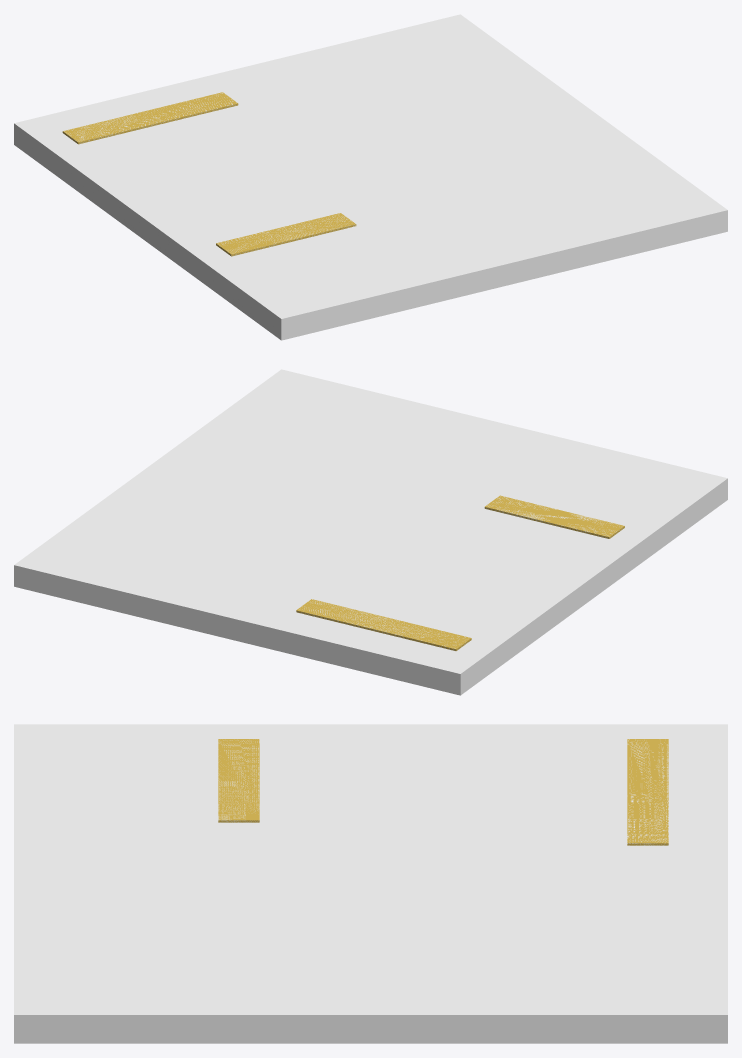
The model's file is original-129.obj.
3 views of the same model, one above another, from view 1: azimuth 30°, elevation 25°; view 2: azimuth 150°, elevation 25°; view 3: azimuth 270°, elevation 25° (orthographic). The views are drawn at different scales.
Parts seen in each view (by area): view 1: mesh217/mesh217-geometry#mesh217-geometry; view 2: mesh217/mesh217-geometry#mesh217-geometry; view 3: mesh217/mesh217-geometry#mesh217-geometry.
Boxes of the visible parts, x1,y1,x2,y2 form: mesh217/mesh217-geometry#mesh217-geometry: [14, 14, 727, 340]; mesh217/mesh217-geometry#mesh217-geometry: [14, 369, 727, 695]; mesh217/mesh217-geometry#mesh217-geometry: [14, 724, 727, 1043].
Size of the model in its own units: 0.0954 by 0.00479 by 0.099.
